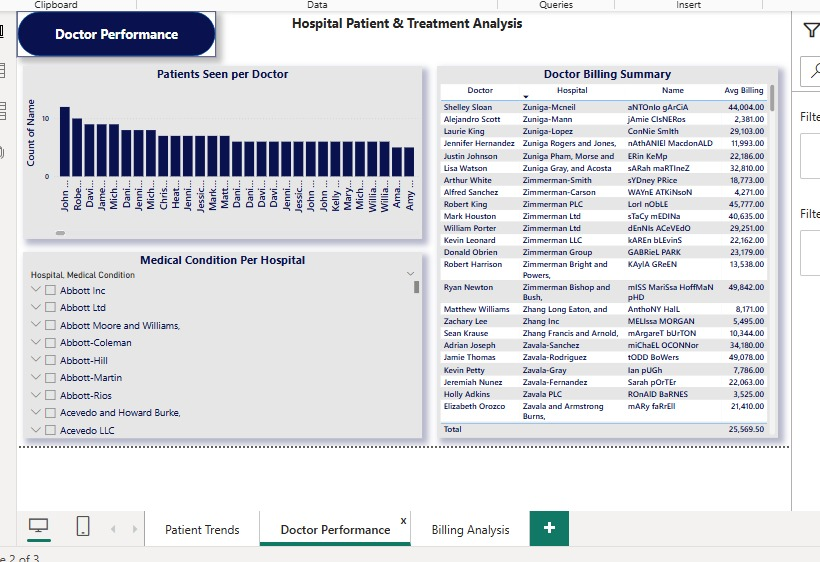

The page's visual inventory and layout, read from the dashboard file:
{"tool":"powerbi","page":{"name":" Doctor Performance","canvas":[1280,720],"ordinal":1},"visuals":[{"type":"textbox","box":[10.1,0,1269.9,60.5],"z":0},{"type":"actionButton","box":[10.1,0,48.7,40.3],"z":1000},{"type":"shape","box":[0,0,329.2,75.6],"z":2000},{"type":"clusteredColumnChart","title":"Patients Seen per Doctor","fields":{"Category":["healthcare data.Doctor"],"Y":["healthcare data.Name"]},"box":[10.1,90.7,660.2,285.6],"z":3000},{"type":"tableEx","title":"Doctor Billing  Summary","fields":{"Values":["healthcare data.Doctor","healthcare data.Hospital","healthcare data.Name","healthcare data.Avg Billing"]},"box":[694.6,91,563.9,615.2],"z":4000},{"type":"slicer","title":"Medical Condition Per Hospital","fields":{"Values":["healthcare data.Hospital","healthcare data.Medical Condition"]},"box":[9.9,398.6,659.8,307.6],"z":5000}]}

Visuals, with their boxes on the page's 1280x720 design canvas (x1, y1, x2, y2). These are canvas units, not pixel positions in the 820x562 screenshot, which may show the page scaled, cropped or inside an application window:
textbox: locate(10, 0, 1280, 60)
actionButton: locate(10, 0, 59, 40)
shape: locate(0, 0, 329, 76)
"Patients Seen per Doctor" clusteredColumnChart: locate(10, 91, 670, 376)
"Doctor Billing  Summary" tableEx: locate(695, 91, 1258, 706)
"Medical Condition Per Hospital" slicer: locate(10, 399, 670, 706)
